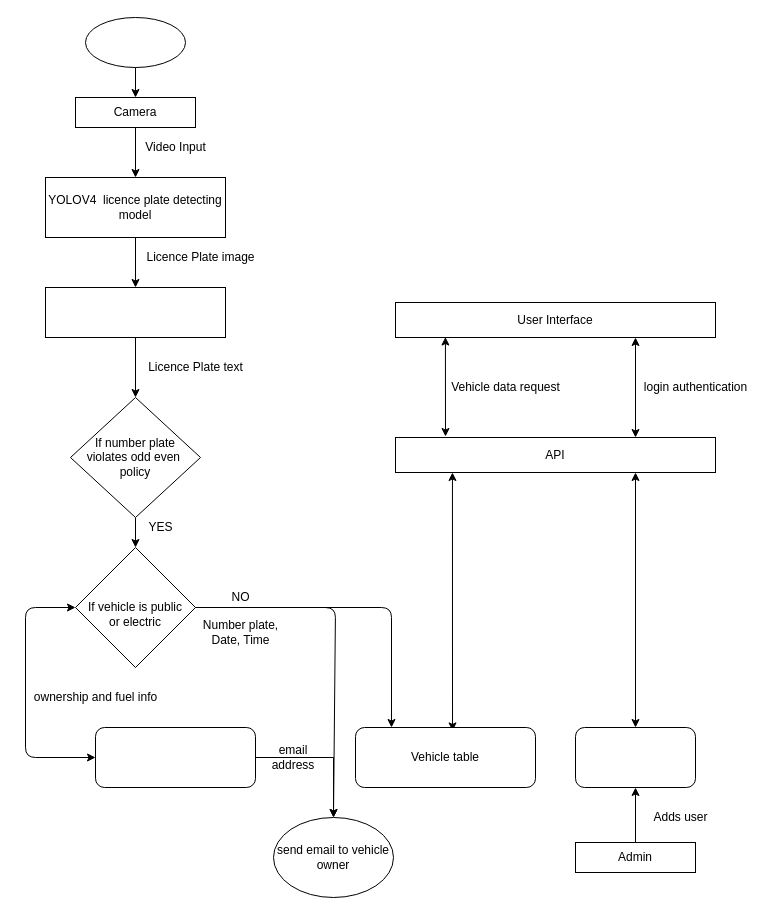
Image size: 773x915. Some labels were removed from this diagram. The shapes that lost their labels are listed below. From the top down, each one's centre as x and y in pixels, then its label:
At (135,42): "Start".
At (135,312): "Pytesseract OCR".
At (175,757): "Vehicle owner table".
At (635,757): "User table".
